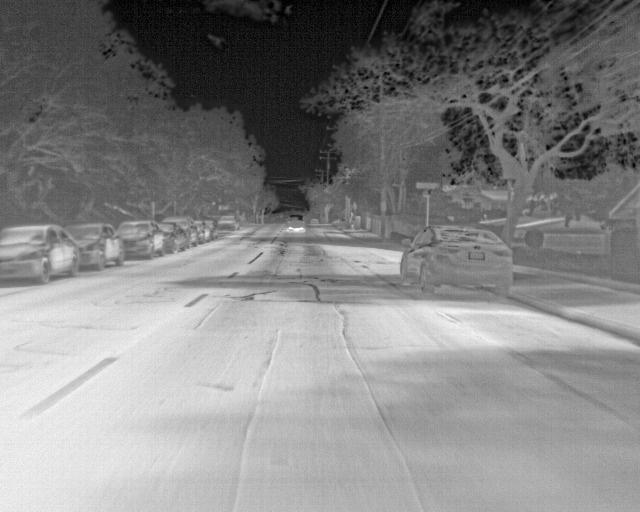car: (400, 222, 515, 299), (0, 222, 81, 285), (73, 221, 125, 271), (120, 218, 168, 259), (154, 221, 188, 255), (180, 218, 211, 245), (218, 212, 239, 231), (285, 212, 304, 231)
